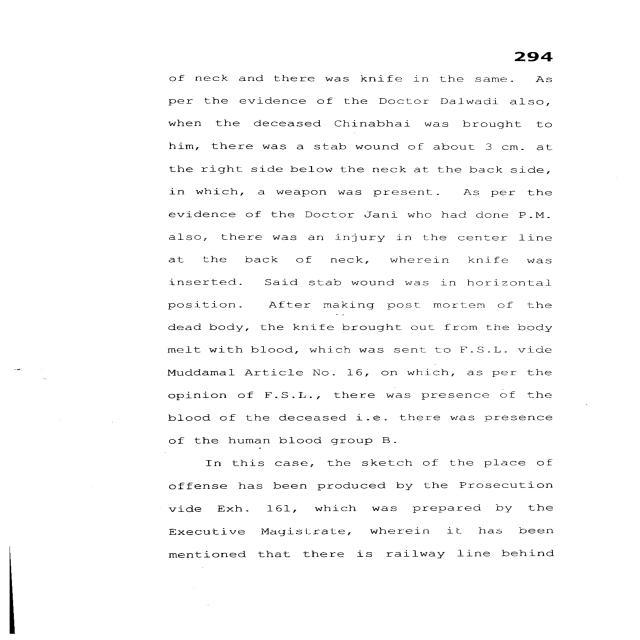page-number: (431, 2, 636, 70)
